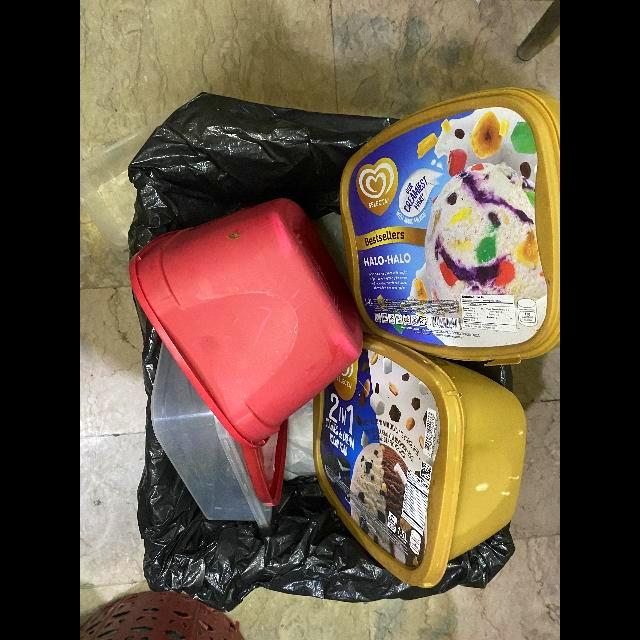plastic_container: (339, 88, 560, 366), (129, 198, 364, 450), (313, 329, 527, 590), (150, 343, 272, 529)
